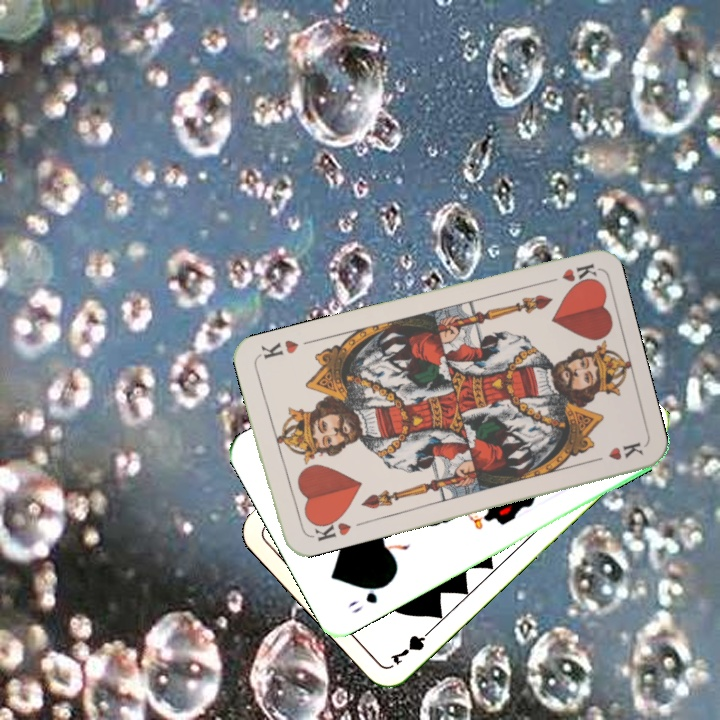G7: (386, 623, 437, 668)
GO: (343, 578, 392, 616)
HK: (538, 259, 598, 287), (304, 511, 354, 544)
